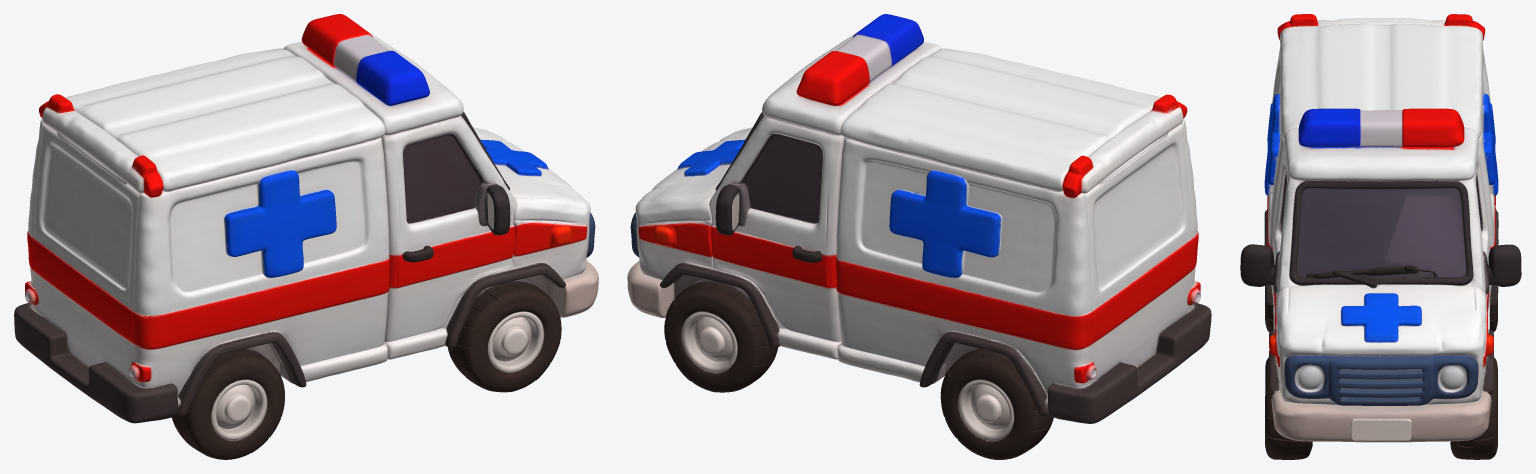
File: City_Obs_Ambulance.glb
3 views of the same model, side by side, from view 1: azimuth 30°, elevation 25°; view 2: azimuth 150°, elevation 25°; view 3: azimuth 270°, elevation 25° (orthographic). The views are drawn at different scales.
Parts seen in each view (by area): view 1: tripo_node_6bcf51ba-837d-486f-b01e-ce027572c483; view 2: tripo_node_6bcf51ba-837d-486f-b01e-ce027572c483; view 3: tripo_node_6bcf51ba-837d-486f-b01e-ce027572c483.
Boxes of the visible parts, box(x1,y1,x2,y2) form: tripo_node_6bcf51ba-837d-486f-b01e-ce027572c483: box(14, 14, 598, 459); tripo_node_6bcf51ba-837d-486f-b01e-ce027572c483: box(627, 14, 1211, 459); tripo_node_6bcf51ba-837d-486f-b01e-ce027572c483: box(1240, 14, 1521, 459).
Size of the model in its own units: 1 by 0.6409 by 0.5422.
1 material, 1 textured.
